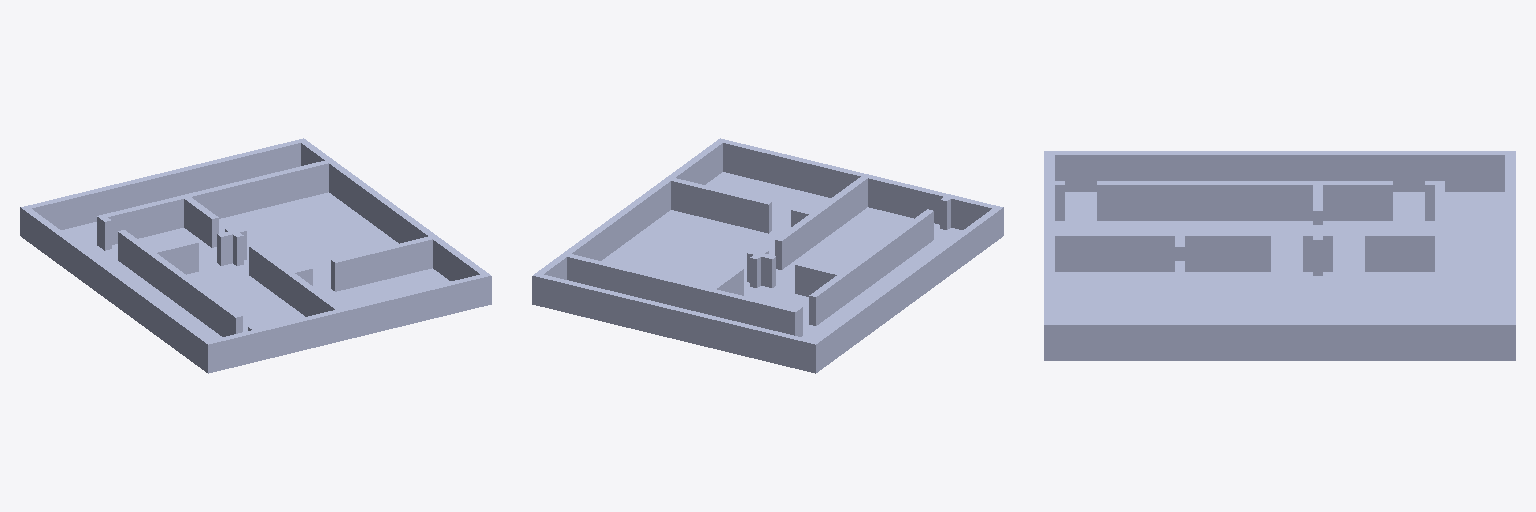
URDF robot description (robocup_at_home_2014):
<robot
  name="robocup_at_home_2014">
  <link
    name="floor">
    <inertial>
      <origin
        xyz="0.115 -0.825 -0.0005"
        rpy="0 0 0" />
      <mass
        value="12000" />
      <inertia
        ixx="0"
        ixy="0"
        ixz="0"
        iyy="0"
        iyz="0"
        izz="0" />
    </inertial>
    <visual>
      <origin
        xyz="0 0 0"
        rpy="0 0 0" />
      <geometry>
        <mesh
          filename="package://worlds/meshes/floor.STL" />
      </geometry>
      <material
        name="">
        <color
          rgba="0.79216 0.81961 0.93333 0" />
      </material>
    </visual>
    <collision>
      <origin
        xyz="0 0 0"
        rpy="0 0 0" />
      <geometry>
        <mesh
          filename="package://worlds/meshes/floor.STL" />
      </geometry>
    </collision>
  </link>
  <link
    name="walls">
    <inertial>
      <origin
        xyz="-0.077481 -0.71769 0.5"
        rpy="0 0 0" />
      <mass
        value="18362" />
      <inertia
        ixx="1338.4"
        ixy="-4796"
        ixz="-2.0132E-12"
        iyy="21543"
        iyz="-4.2093E-13"
        izz="22882" />
    </inertial>
    <visual>
      <origin
        xyz="0 0 0"
        rpy="0 0 0" />
      <geometry>
        <mesh
          filename="package://worlds/meshes/walls.STL" />
      </geometry>
      <material
        name="">
        <color
          rgba="0.79216 0.81961 0.93333 1" />
      </material>
    </visual>
    <collision>
      <origin
        xyz="0 0 0"
        rpy="0 0 0" />
      <geometry>
        <mesh
          filename="package://worlds/meshes/walls.STL" />
      </geometry>
    </collision>
  </link>
  <joint
    name="floor_to_walls"
    type="fixed">
    <origin
      xyz="0 0 0"
      rpy="0 0 0" />
    <parent
      link="floor" />
    <child
      link="walls" />
    <axis
      xyz="0 0 0" />
  </joint>
</robot>

--- What the picture shows (computed from the rendered views, not written in the file) ---
Views: 3 orthographic renders of the robot side by side, from view 1: azimuth 30°, elevation 25°; view 2: azimuth 150°, elevation 25°; view 3: azimuth 270°, elevation 25°.
Robot: robocup_at_home_2014 — 2 links, 1 joints (1 fixed); root link floor; default pose: all joints at 0.
Links seen in each view (by area): view 1: walls, floor; view 2: walls, floor; view 3: walls, floor.
Link boxes in pixels (x1,y1,x2,y2): walls: (20,138,491,373); floor: (42,192,483,367); walls: (532,138,1003,373); floor: (540,172,981,367); walls: (1044,151,1515,360); floor: (1055,192,1504,319).
Size in the robot's own frame: 10.25 by 11.75 by 1 metres.
2 mesh visuals loaded from 2 distinct referenced files (2 binary STL).